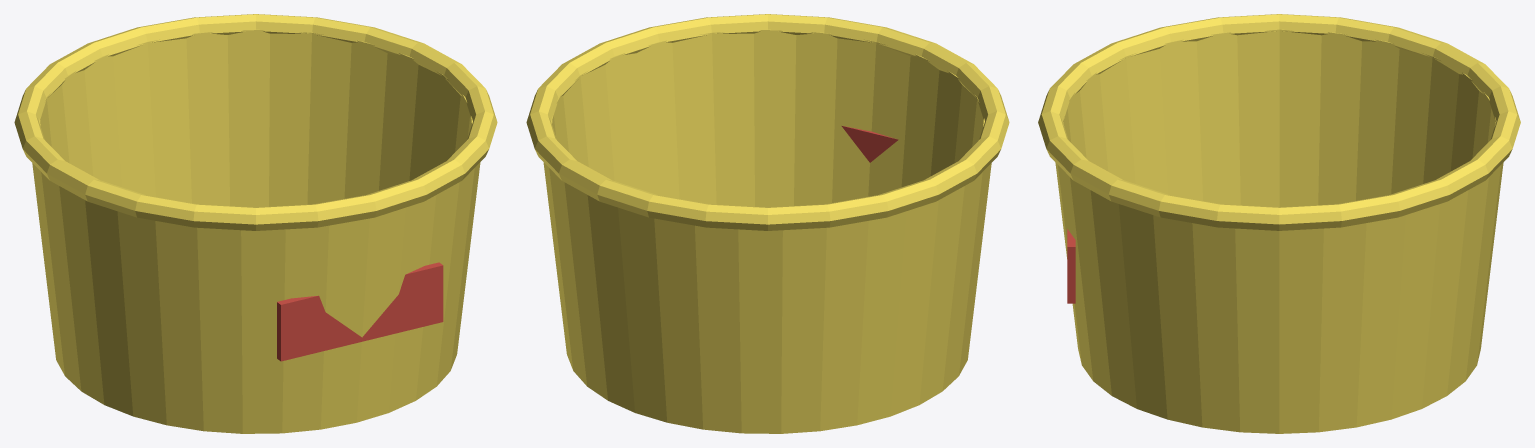
Rendered from oke.glb.
3 views of the same model, side by side, from view 1: azimuth 30°, elevation 25°; view 2: azimuth 150°, elevation 25°; view 3: azimuth 270°, elevation 25° (orthographic).
Parts seen in each view (by area): view 1: Oke; view 2: Oke; view 3: Oke.
Boxes of the visible parts, left/top/right/bottom form: Oke: left=14, top=14, right=497, bottom=433; Oke: left=526, top=14, right=1009, bottom=433; Oke: left=1038, top=14, right=1520, bottom=433.
Bounding box in the file's own units: 0.232 × 0.126 × 0.232.
